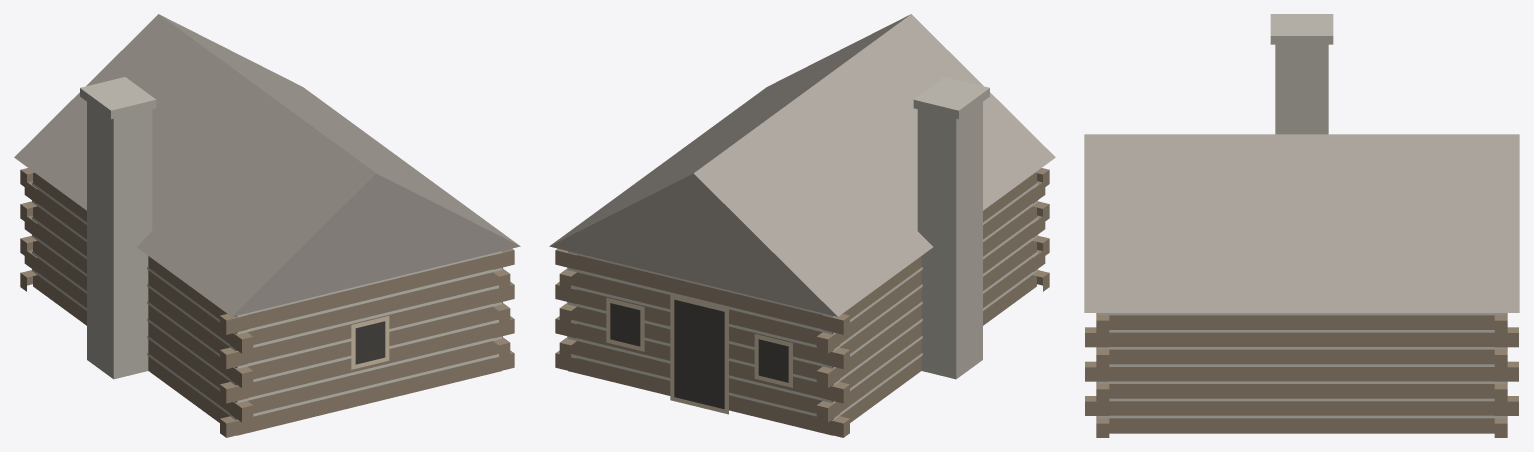
Rendered from recon_1835_west_014__inferred_1835.glb.
The picture shows the model from 3 angles, left to right: view 1: azimuth 30°, elevation 25°; view 2: azimuth 150°, elevation 25°; view 3: azimuth 270°, elevation 25°; orthographic projection.
Parts seen in each view (by area): view 1: recon_1835_west_014__inferred_1835; view 2: recon_1835_west_014__inferred_1835; view 3: recon_1835_west_014__inferred_1835.
Part boxes in pixels (x1,y1,x2,y2): recon_1835_west_014__inferred_1835: [14, 14, 520, 437]; recon_1835_west_014__inferred_1835: [549, 14, 1055, 437]; recon_1835_west_014__inferred_1835: [1084, 14, 1519, 437].
Size of the model in its own units: 6.56 by 5.44 by 7.82.
